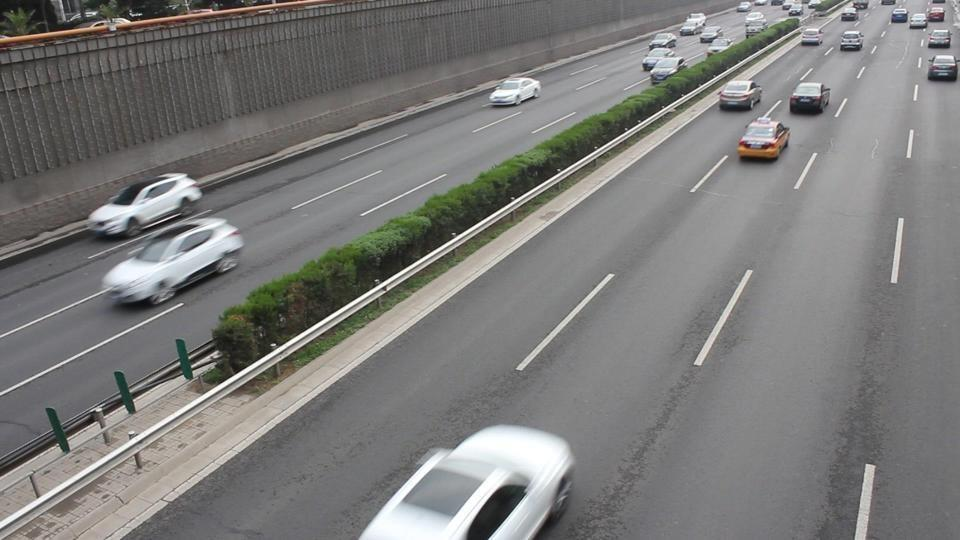car: (358, 423, 577, 539), (100, 214, 244, 307), (87, 172, 203, 238), (737, 117, 791, 161), (489, 76, 542, 106), (718, 78, 764, 111), (789, 80, 831, 114), (649, 56, 686, 84), (927, 54, 958, 82), (679, 12, 706, 36), (925, 27, 951, 49), (839, 30, 864, 51), (801, 25, 823, 46), (909, 13, 927, 29), (890, 9, 909, 23), (841, 9, 858, 23)
